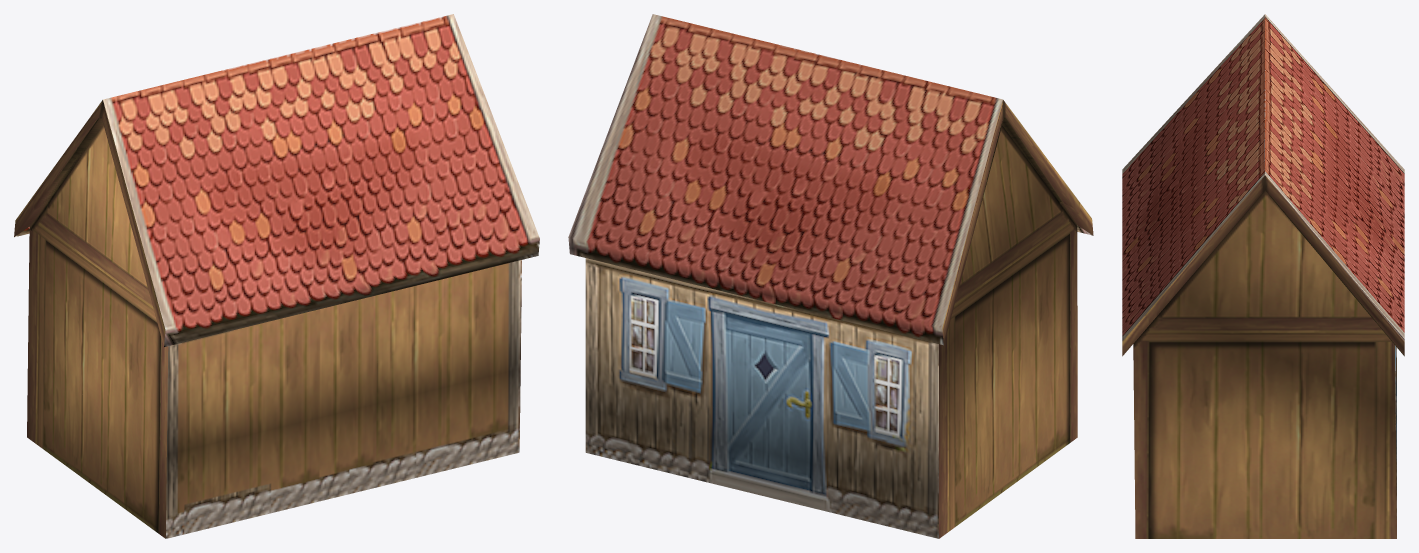
Rendered from house2.FBX.
3 renders of one model, left to right at view 1: azimuth 30°, elevation 25°; view 2: azimuth 150°, elevation 25°; view 3: azimuth 270°, elevation 25°, orthographic. The views are drawn at different scales.
Visible parts, largest first — view 1: C:\online\; view 2: C:\online\; view 3: C:\online\.
Part boxes in pixels (box(x1,y1,x2,y2)): C:\online\: box(14, 14, 539, 538); C:\online\: box(568, 14, 1093, 538); C:\online\: box(1122, 14, 1404, 538).
Size of the model in its own units: 7.71 by 7.6 by 5.33.
1 material, 1 textured.
